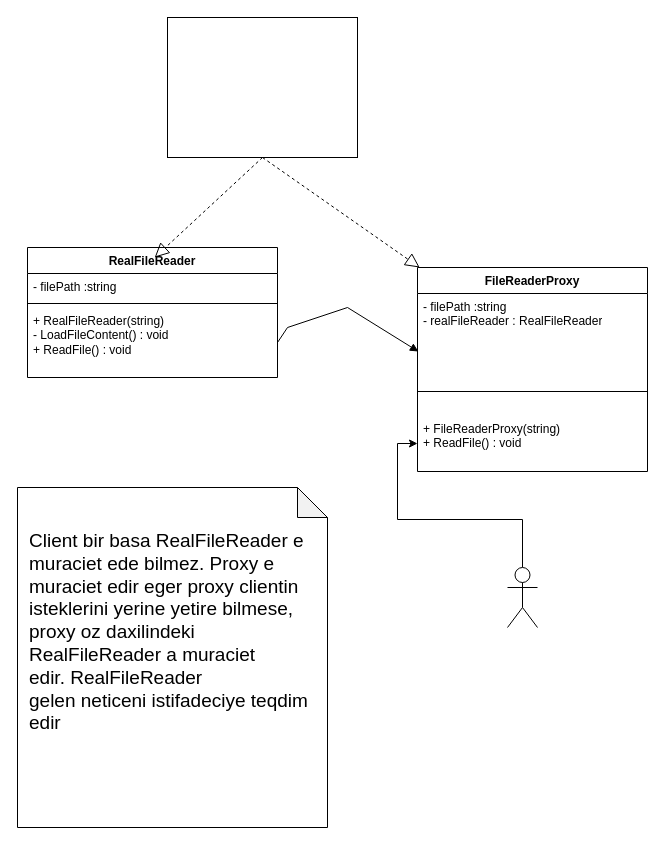
Some shapes in this 665 by 845 pixel diagram are drawn without their labels. The centre of each missing label's shape, as x and y in pixels:
"<<Interface>> IFileReader + ReadFile(): void" goes at point 262,87.
"Actor" goes at point 522,597.
